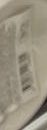1d: (17, 50, 34, 93)
